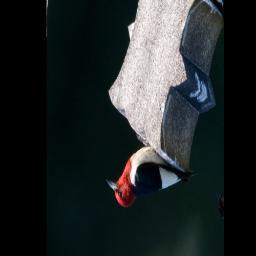Woodpecker: (101, 101, 200, 256)
